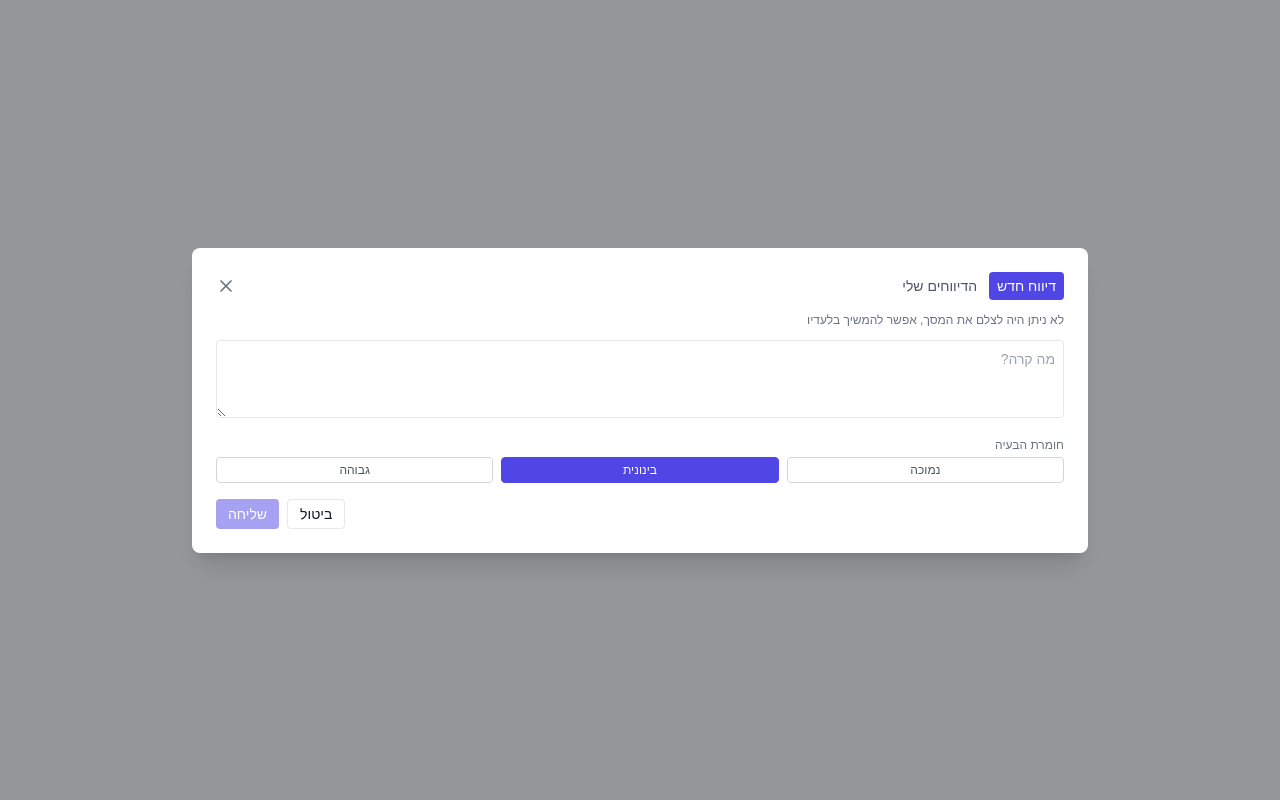
Scenario: BugReportModal › switches to the my-reports tab and shows the reporter's own reports
Click the tab with test id "bug-report-tab-mine": (940, 286) [894,272,985,300]
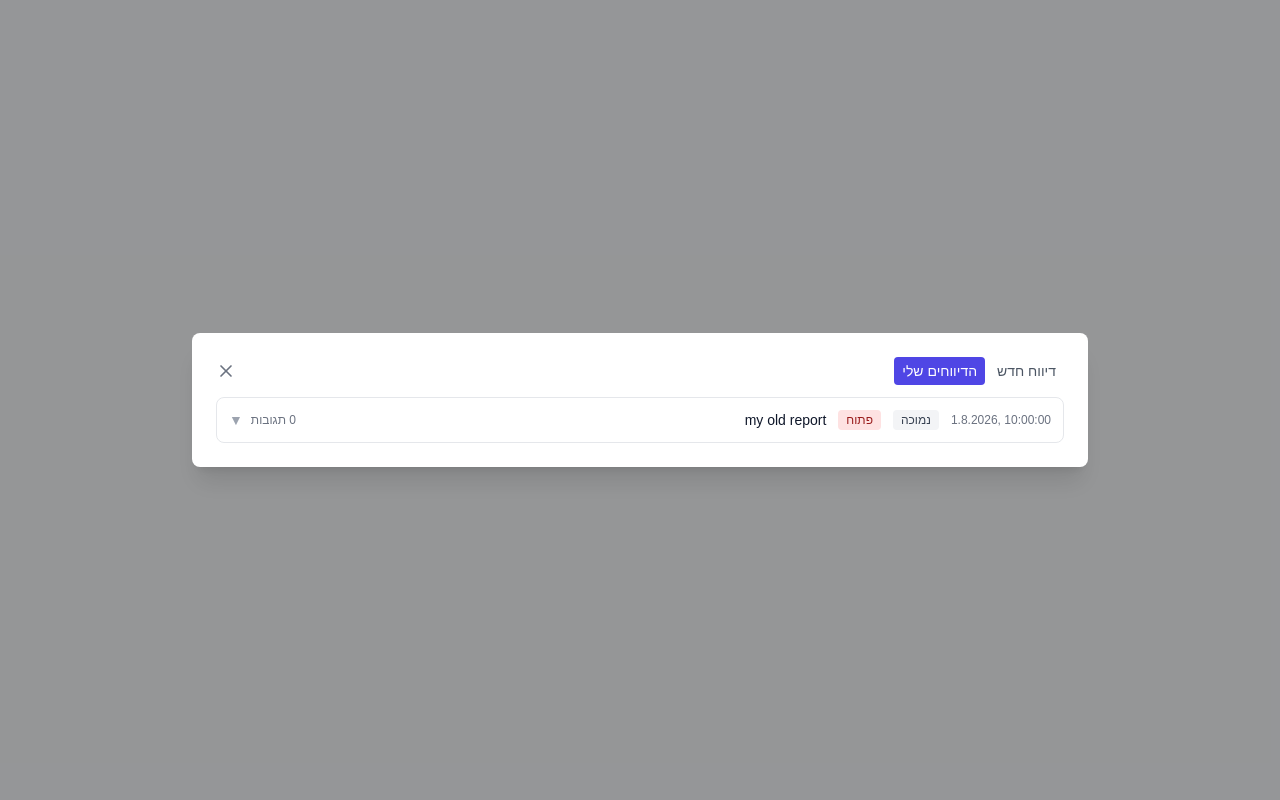
Check: the text "my old report" is shown, box [745,412,826,428]
Check: the text box with test id "bug-report-description" is gone
